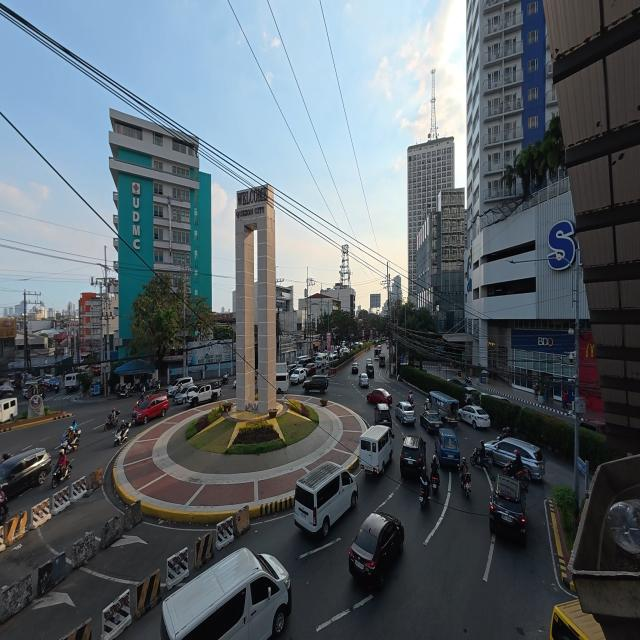car: (346, 509, 404, 590), (0, 444, 67, 494), (472, 435, 543, 482), (436, 429, 464, 470), (133, 396, 169, 424), (170, 381, 202, 406), (457, 406, 490, 428), (304, 376, 330, 396), (366, 387, 392, 407), (419, 410, 444, 430), (398, 402, 418, 426), (288, 364, 309, 382), (41, 376, 59, 391), (0, 382, 15, 397), (357, 375, 370, 389), (350, 361, 360, 374)
motorcycle: (62, 426, 81, 452)
vans: (165, 544, 298, 636), (295, 456, 362, 538), (358, 421, 394, 474), (64, 375, 81, 392)
